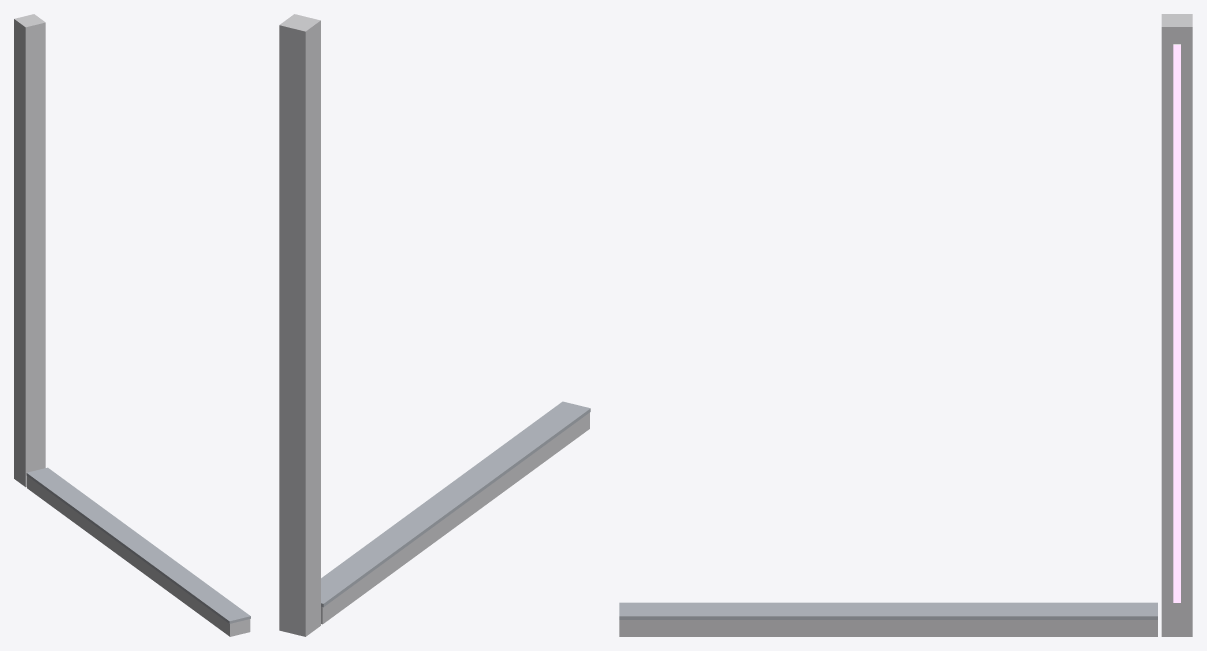
The model's file is station_buffer_ausstattung_3_2.glb.
3 renders of one model, left to right at view 1: azimuth 30°, elevation 25°; view 2: azimuth 150°, elevation 25°; view 3: azimuth 270°, elevation 25°, orthographic. The views are drawn at different scales.
Visible parts, largest first — view 1: station_buffer_ausstattung_3_2; view 2: station_buffer_ausstattung_3_2; view 3: station_buffer_ausstattung_3_2.
Boxes of the visible parts, left/top/right/bottom form: station_buffer_ausstattung_3_2: left=14, top=14, right=250, bottom=636; station_buffer_ausstattung_3_2: left=279, top=14, right=590, bottom=636; station_buffer_ausstattung_3_2: left=619, top=14, right=1192, bottom=636.
Bounding box in the file's own units: 0.087 × 1.75 × 1.49.
